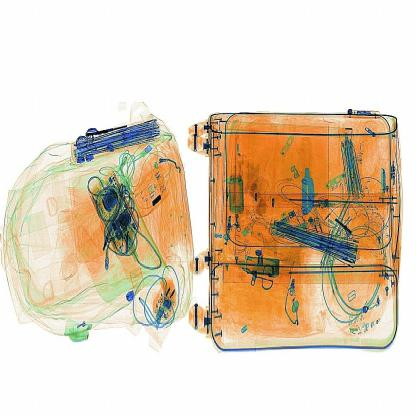wrench: (298, 125, 319, 215)
